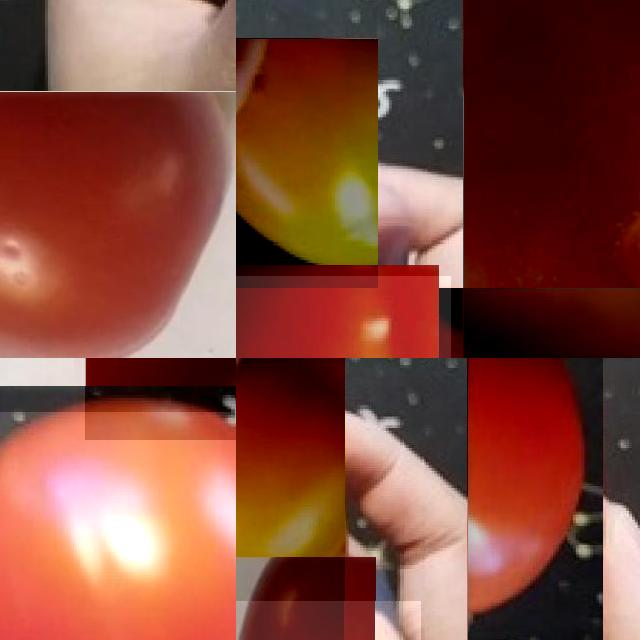Fresh Tomato: (0, 91, 236, 358), (0, 412, 236, 640), (467, 358, 603, 640), (236, 276, 451, 358)
Rotten Tomato: (463, 0, 640, 288), (236, 38, 378, 288), (236, 358, 345, 640), (463, 288, 640, 358)
